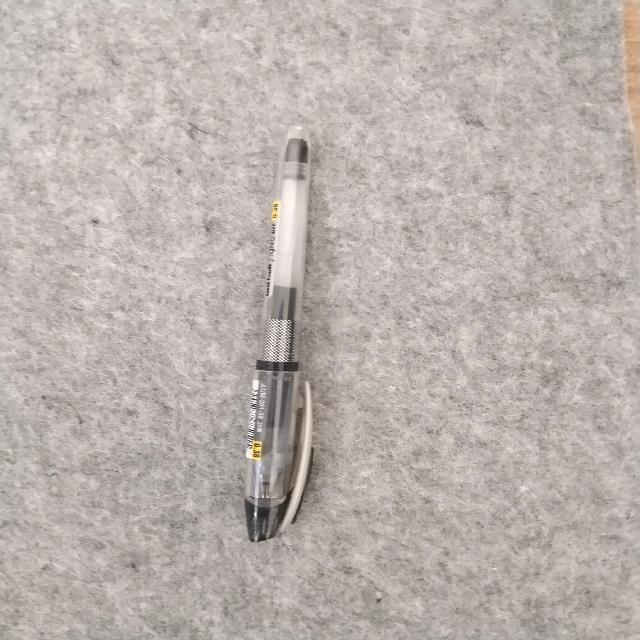pen: (244, 125, 311, 540)
